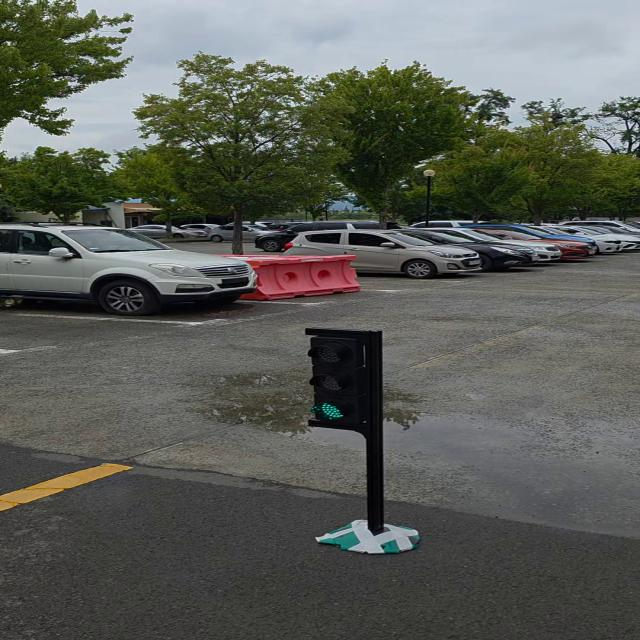green: (305, 330, 384, 431)
